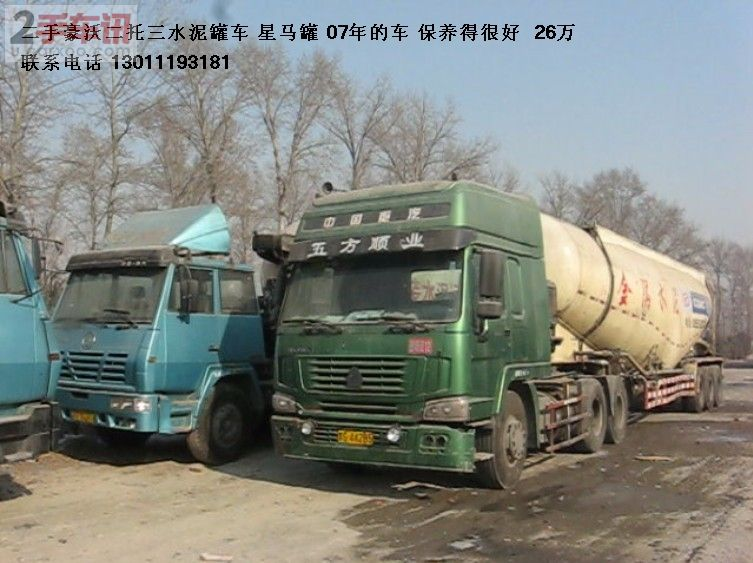truck: (257, 169, 741, 452), (55, 199, 243, 453)
